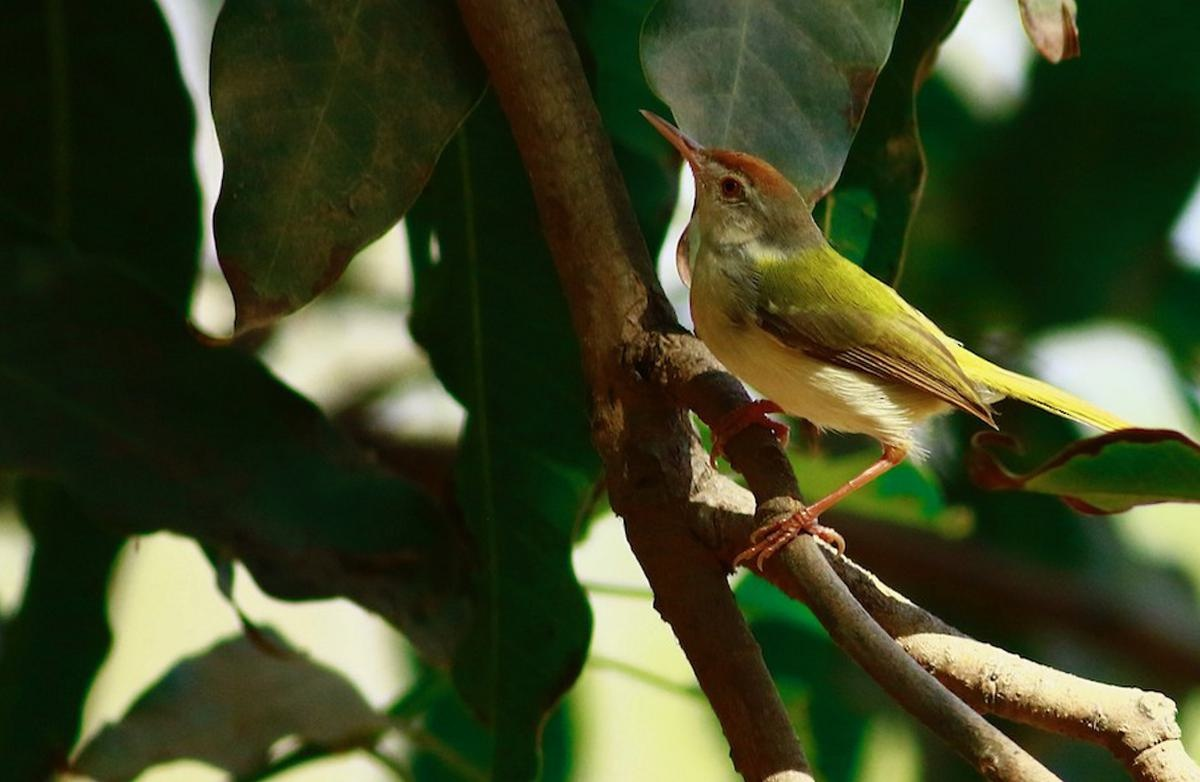tailorbird: (633, 92, 1065, 535)
